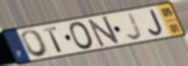J: (125, 11, 144, 41), (147, 8, 165, 37)
N: (87, 15, 122, 48)
O: (20, 29, 51, 59), (68, 21, 96, 51)
T: (41, 26, 64, 53)
